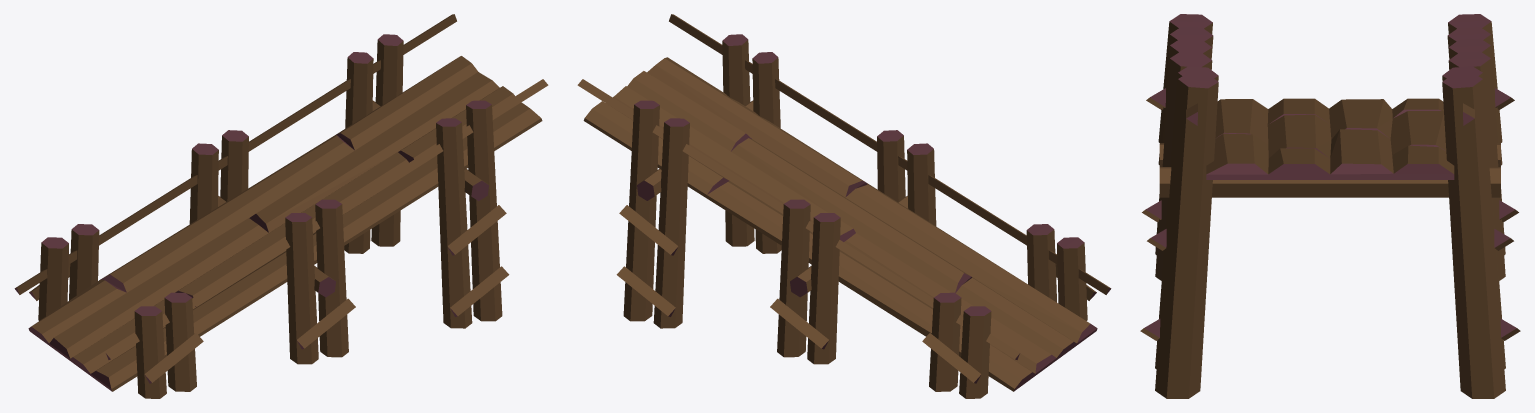
Rendered from SM_Ramp_Tribal.fbx.
3 renders of one model, left to right at view 1: azimuth 30°, elevation 25°; view 2: azimuth 150°, elevation 25°; view 3: azimuth 270°, elevation 25°, orthographic. The views are drawn at different scales.
Visible parts, largest first — view 1: SM_Ramp_Tribal; view 2: SM_Ramp_Tribal; view 3: SM_Ramp_Tribal.
Boxes of the visible parts, <box> form: SM_Ramp_Tribal: <box>14,14,548,398</box>; SM_Ramp_Tribal: <box>577,14,1111,398</box>; SM_Ramp_Tribal: <box>1140,14,1520,398</box>.
Bounding box in the file's own units: 9.35 × 4.4 × 4.68.
